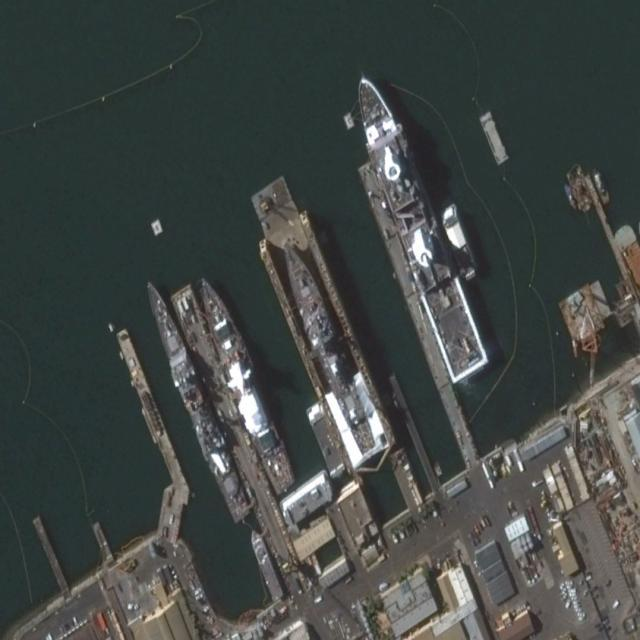Auxiliary Ships: (344, 66, 489, 386)
Cruiser: (135, 273, 254, 527)
Destroyer: (275, 234, 378, 459)
Other Warship: (190, 266, 302, 501)
